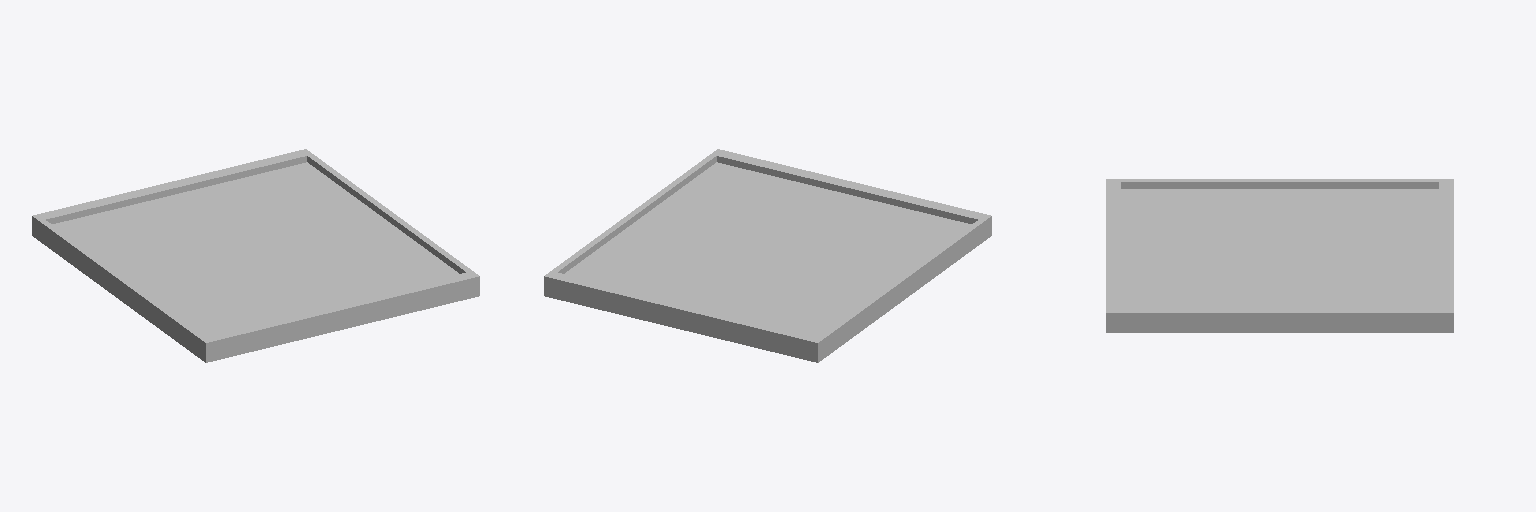
File: table_normals.obj
The picture shows the model from 3 angles: view 1: azimuth 30°, elevation 25°; view 2: azimuth 150°, elevation 25°; view 3: azimuth 270°, elevation 25°; orthographic projection.
Parts seen in each view (by area): view 1: Table.001; view 2: Table.001; view 3: Table.001.
Boxes of the visible parts, x1,y1,x2,y2 form: Table.001: [32, 149, 479, 362]; Table.001: [544, 149, 991, 362]; Table.001: [1106, 179, 1453, 332].
Bounding box in the file's own units: 9.17 × 0.6371 × 10.08.